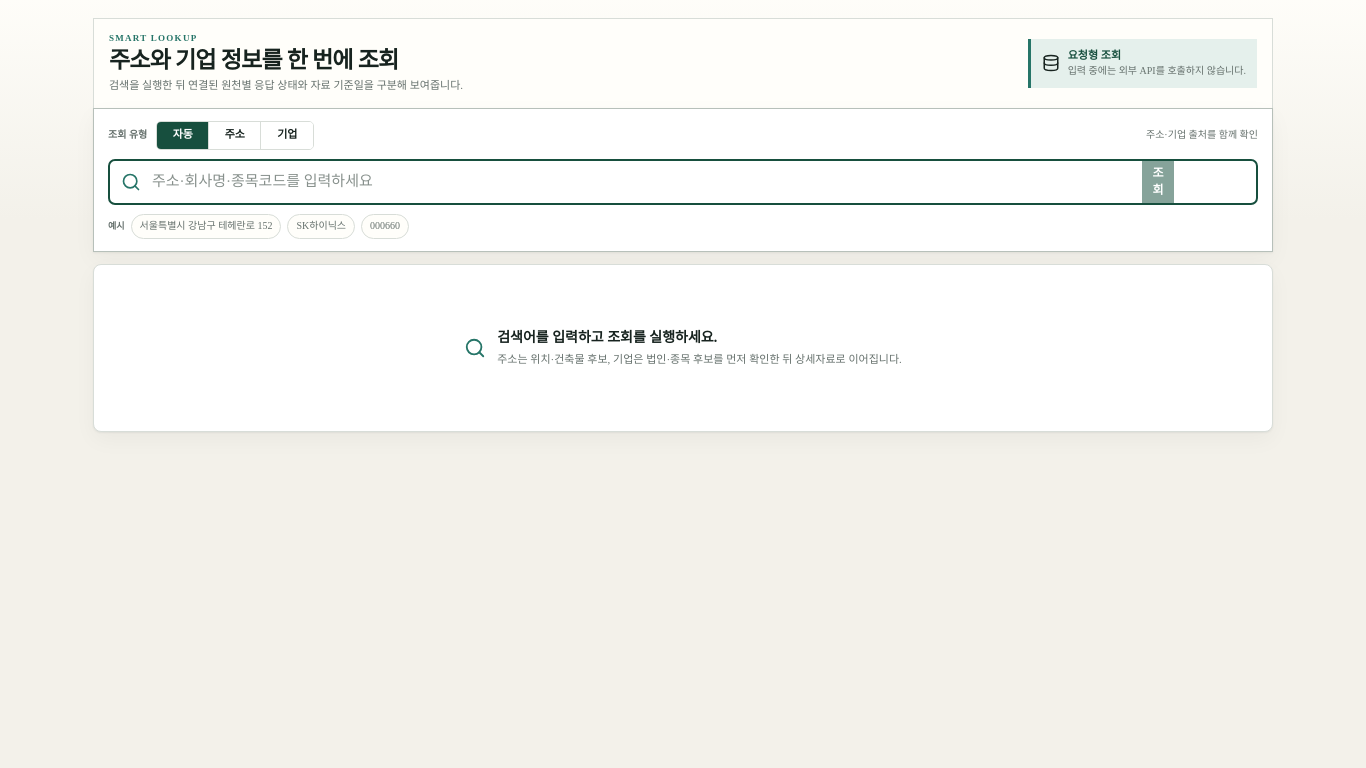
Test: SmartApiSearch › aborts an obsolete request and ignores a late response during rapid re-search
Type "000660" into the field labelled "주소·회사명·종목코드" at (647, 182), box [152, 161, 1142, 203]
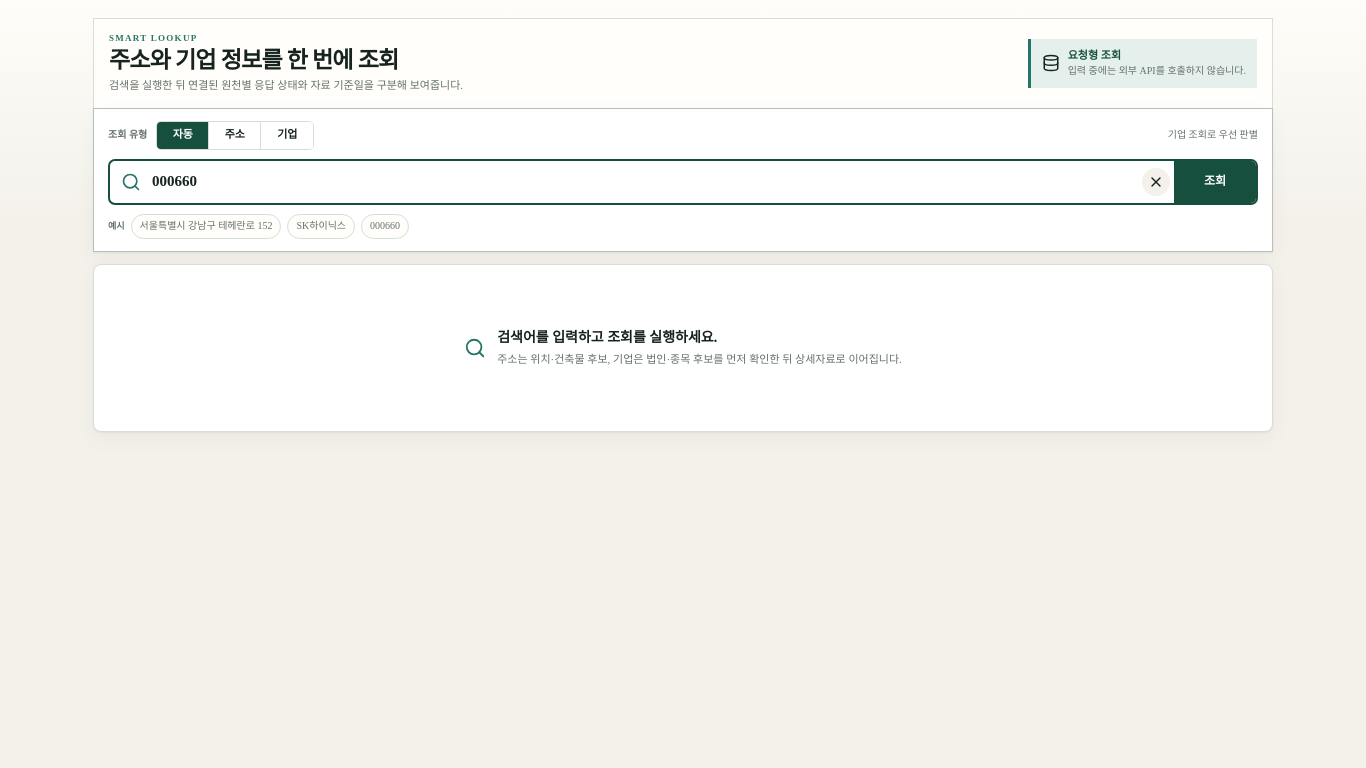
Click the button "조회" at (1215, 182), box [1174, 161, 1256, 203]
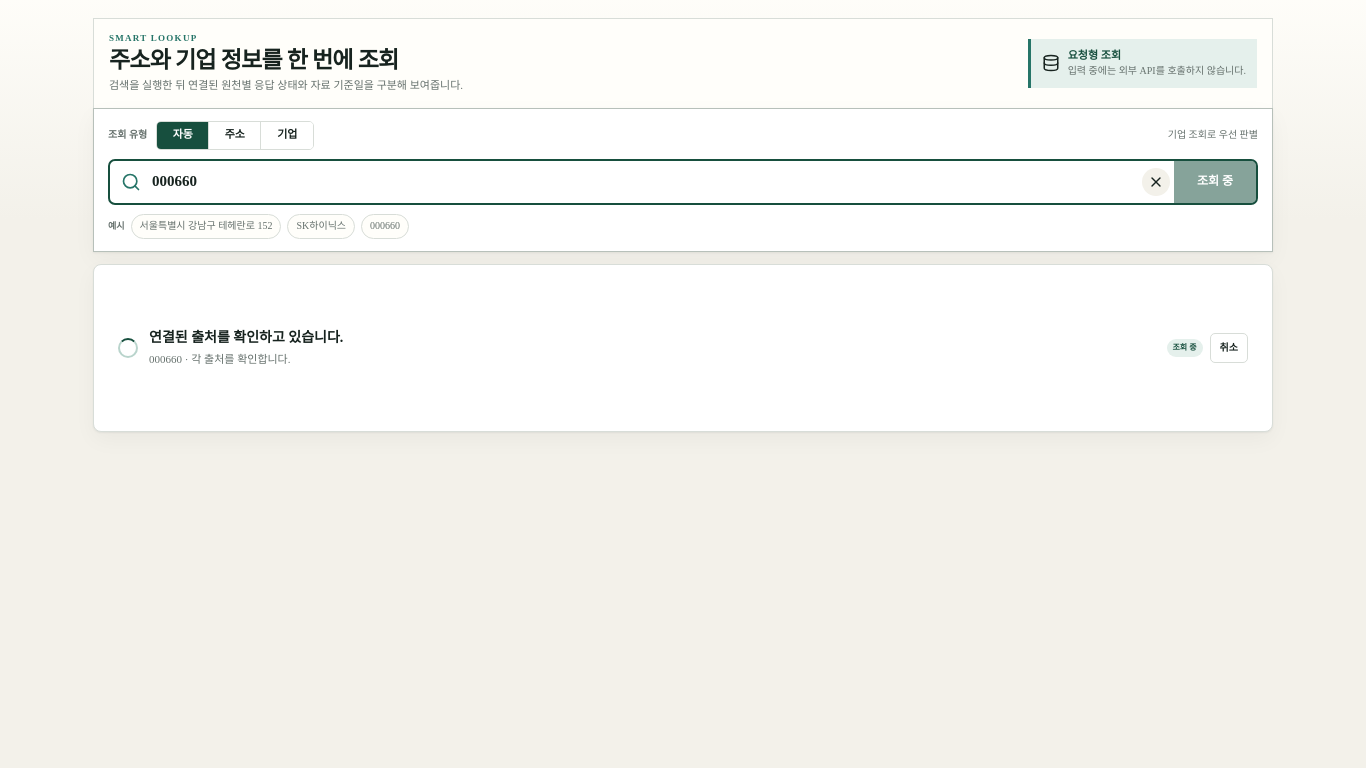
Now the text "연결된 출처를 확인하고 있습니다." is shown, box [149, 328, 343, 349]
Replace the text in the field named "주소·회사명·종목코드" with "035420" at (647, 182), box [152, 161, 1142, 203]
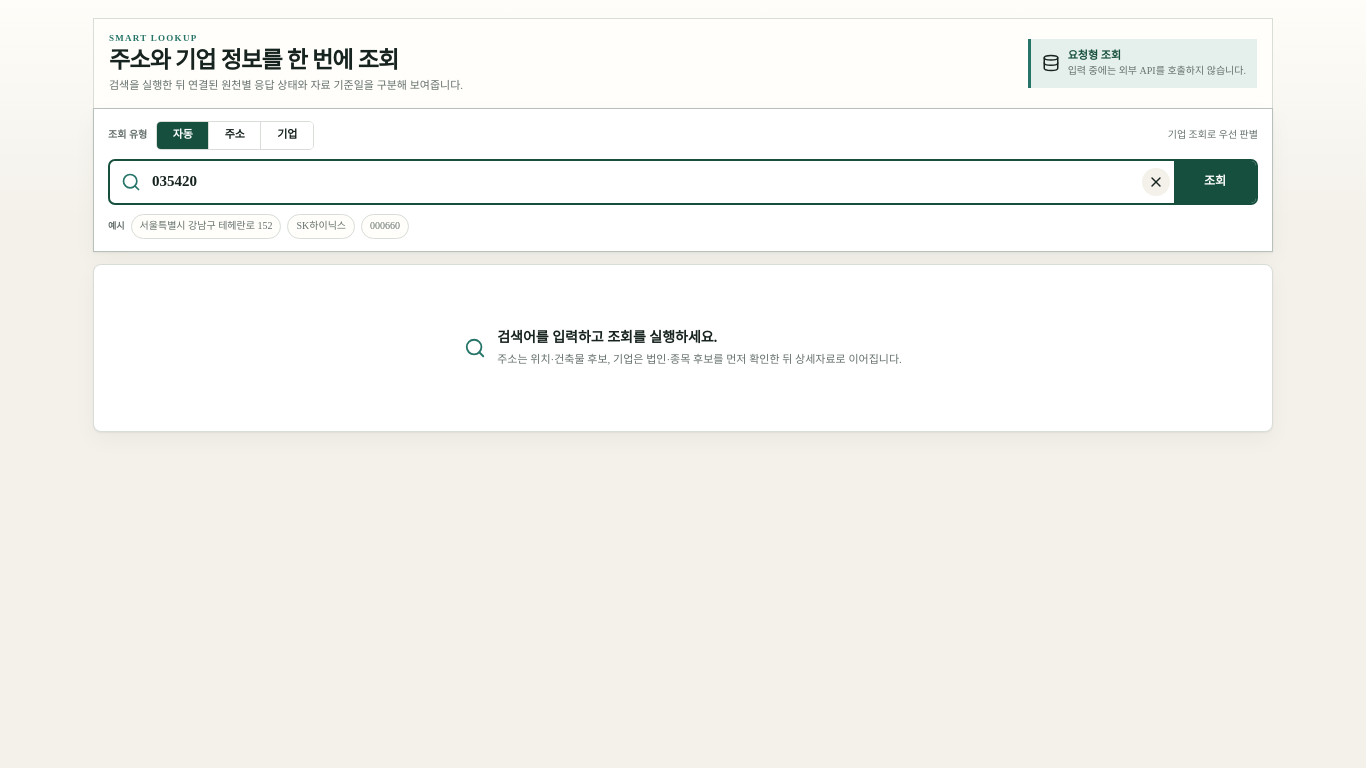
Click the button "조회" at (1215, 182), box [1174, 161, 1256, 203]
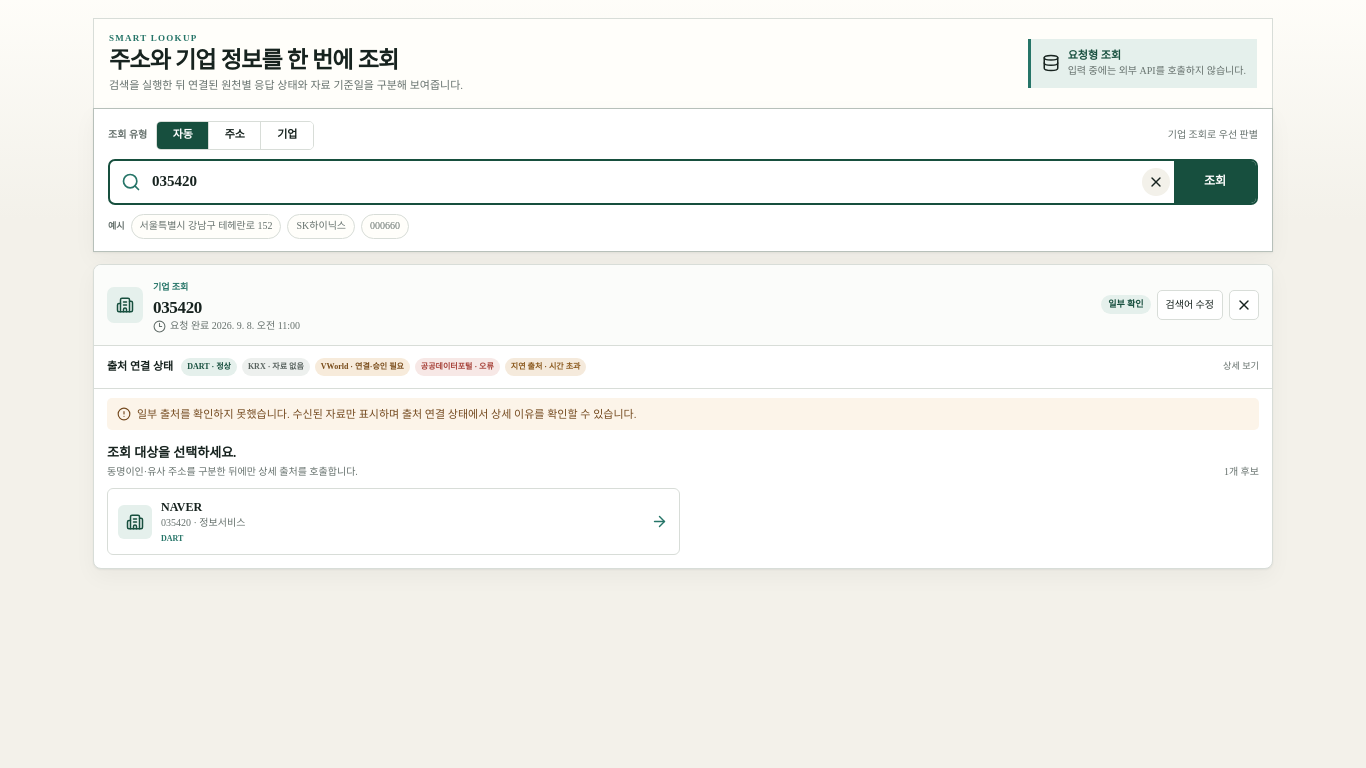
Now the button "NAVER 035420 · 정보서비스 DART" is shown, box [107, 488, 680, 555]
